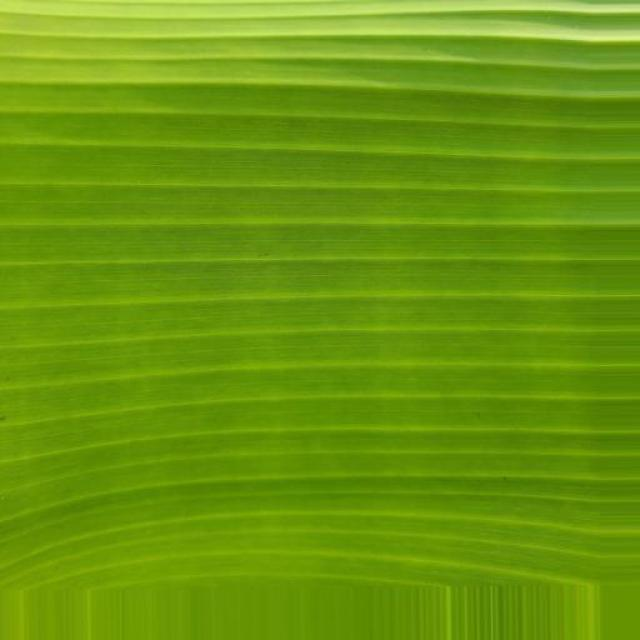Black_leaf_spot: (0, 0, 618, 609)
